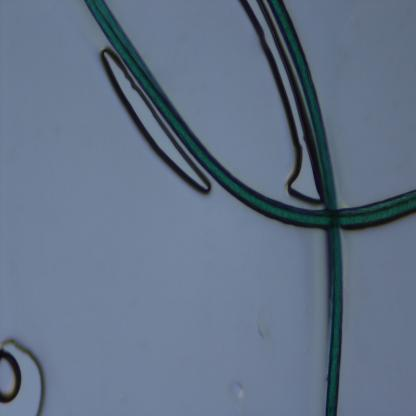Air bubble: (96, 48, 214, 196), (242, 2, 322, 204), (0, 336, 49, 415)
Microfibre: (83, 0, 416, 230), (267, 1, 344, 415)
